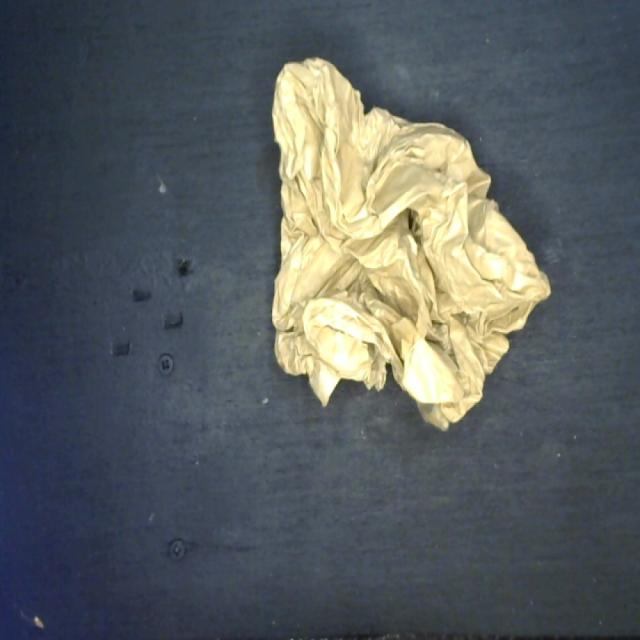biodegradable: (265, 51, 555, 435)
